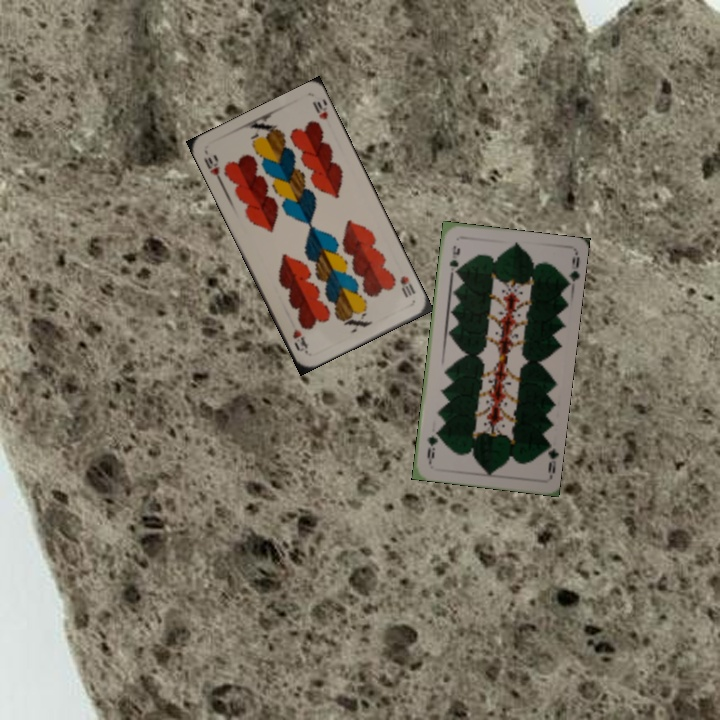G9: (540, 438, 559, 480), (445, 242, 462, 278)
H10: (199, 151, 225, 186), (396, 272, 418, 300)
